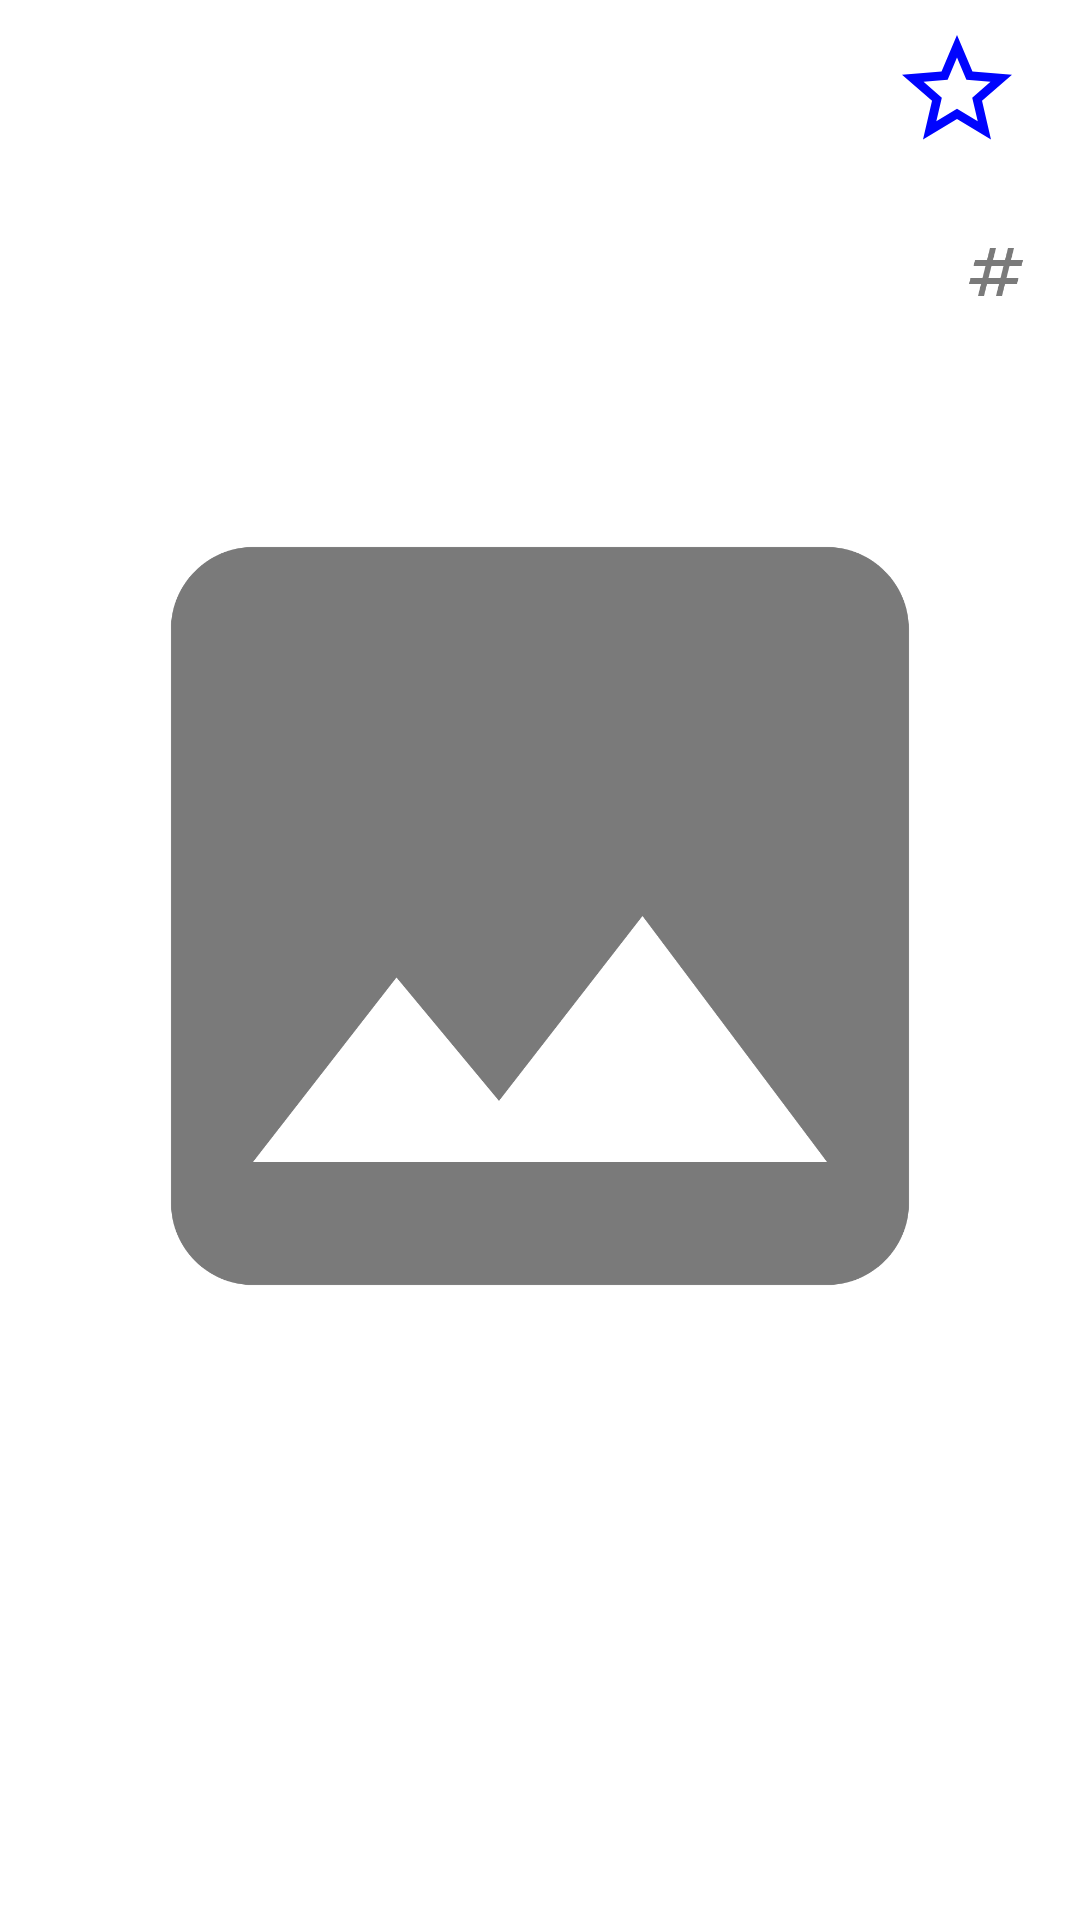

Point at icon controls on the screen. Image size 1080*1920, points as point (x, y).
star border: point (957, 87)
